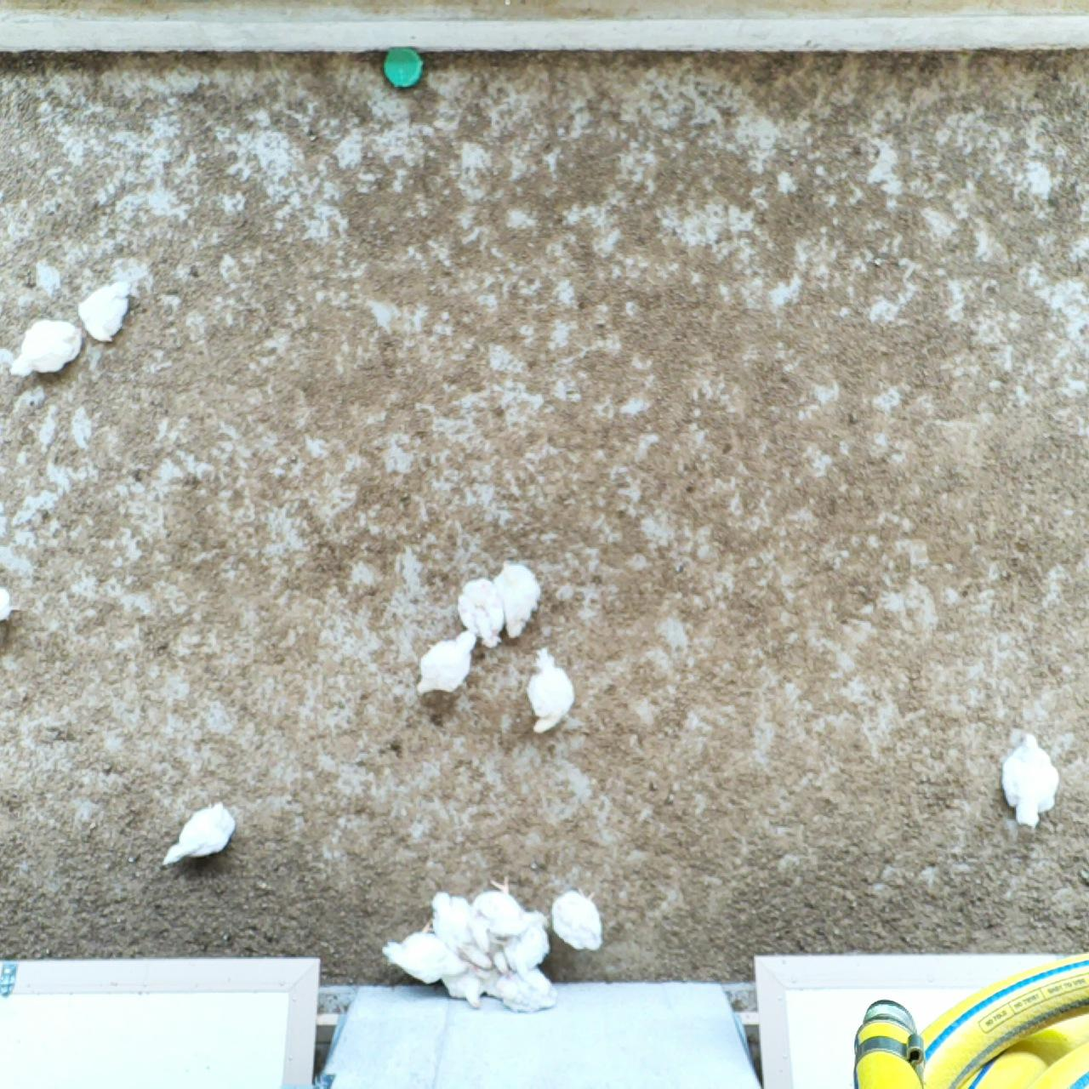chicken: (1001, 726, 1061, 829), (471, 871, 529, 975), (384, 916, 469, 986), (159, 798, 238, 872), (524, 644, 579, 738), (425, 889, 488, 969), (9, 315, 84, 382), (415, 625, 480, 700), (451, 573, 507, 652), (495, 556, 545, 641), (76, 276, 136, 346), (484, 959, 558, 1014), (549, 884, 607, 953), (436, 952, 490, 1009), (505, 907, 550, 975), (0, 583, 24, 623)
